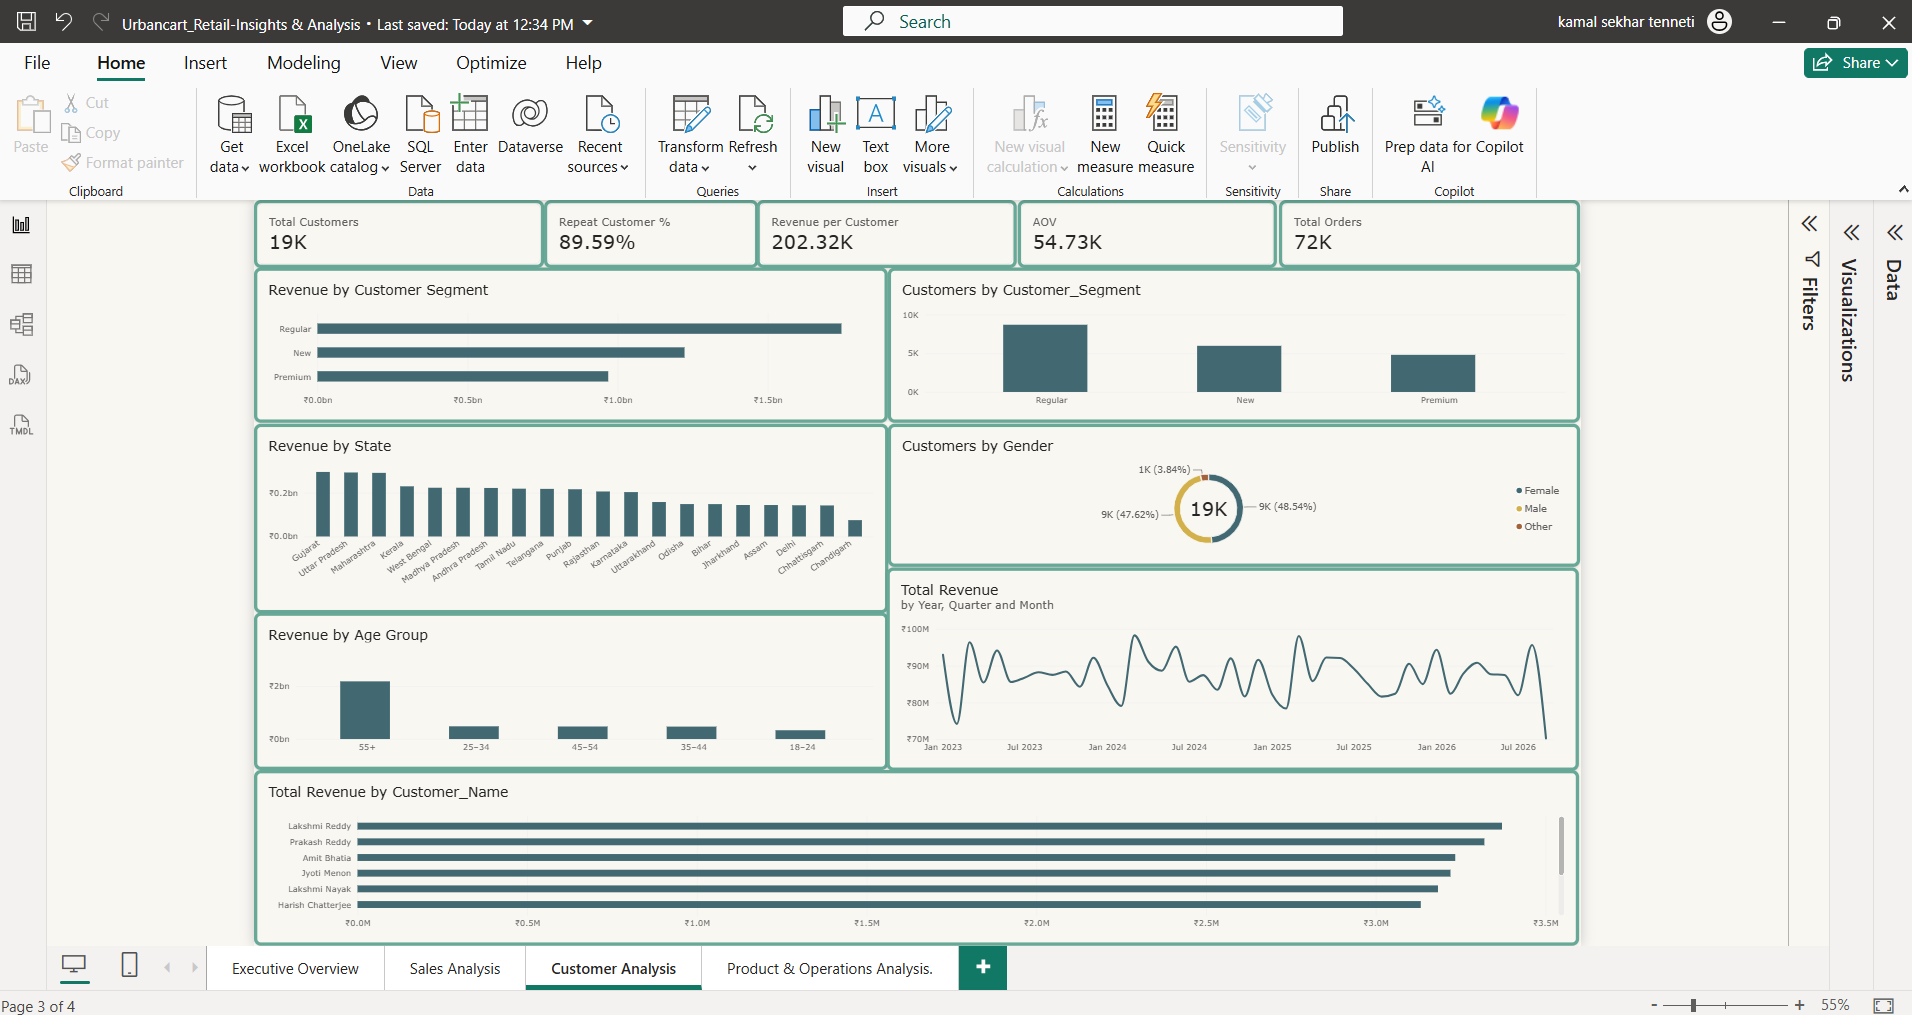

The dashboard page shown, as its layout file describes it:
{"tool":"powerbi","page":{"name":"Customer Analysis","canvas":[1920,1080],"ordinal":2},"visuals":[{"type":"cardVisual","fields":{"Data":["Order_Details.Total Customers"]},"box":[0,0,420,98.3],"z":0},{"type":"cardVisual","fields":{"Data":["Order_Details.Repeat Customer %"]},"box":[420,0,310,98.3],"z":1000},{"type":"cardVisual","fields":{"Data":["Order_Details.Revenue per Customer"]},"box":[728,0,376.7,98.3],"z":2000},{"type":"cardVisual","fields":{"Data":["Order_Details.AOV"]},"box":[1106,0,375,98.3],"z":3000},{"type":"cardVisual","fields":{"Data":["Order_Details.Total Orders"]},"box":[1484,0,436,98],"z":4000},{"type":"clusteredBarChart","title":"Revenue by Customer Segment","fields":{"Category":["Customers.Customer_Segment"],"Y":["Order_Details.Total Revenue"]},"box":[0,98,917.5,225],"z":5000},{"type":"clusteredColumnChart","title":"Customers by Customer_Segment","fields":{"Category":["Customers.Customer_Segment"],"Y":["Order_Details.Total Customers"]},"box":[918,98,1002.5,225],"z":6000},{"type":"clusteredColumnChart","title":"Revenue by State","fields":{"Category":["Customers.State"],"Y":["Order_Details.Total Revenue"]},"box":[0,324,918,274],"z":7000},{"type":"donutChart","title":"Customers by Gender","fields":{"Category":["Customers.Gender"],"Y":["Order_Details.Total Customers"]},"box":[918,324,1002.5,207.5],"z":8000},{"type":"clusteredColumnChart","title":"Revenue by Age Group","fields":{"Category":["Customers.Age Group"],"Y":["Order_Details.Total Revenue"]},"box":[0,598,918,228],"z":9000},{"type":"lineChart","fields":{"Category":["Date_Dimension.Full_Date.Variation.Date Hierarchy.Year","Date_Dimension.Full_Date.Variation.Date Hierarchy.Quarter","Date_Dimension.Full_Date.Variation.Date Hierarchy.Month","Date_Dimension.Full_Date.Variation.Date Hierarchy.Day"],"Y":["Order_Details.Total Revenue"]},"box":[916,532,1002,294],"z":10000},{"type":"clusteredBarChart","fields":{"Category":["Customers.Customer_Name"],"Y":["Order_Details.Total Revenue"]},"box":[0,826,1918,254],"z":11000}]}

Visuals, with their boxes on the page's 1920x1080 design canvas (x1, y1, x2, y2). These are canvas units, not pixel positions in the 1912x1015 screenshot, which may show the page scaled, cropped or inside an application window:
cardVisual - Order_Details.Total Customers: l=0, t=0, r=420, b=98
cardVisual - Order_Details.Repeat Customer %: l=420, t=0, r=730, b=98
cardVisual - Order_Details.Revenue per Customer: l=728, t=0, r=1105, b=98
cardVisual - Order_Details.AOV: l=1106, t=0, r=1481, b=98
cardVisual - Order_Details.Total Orders: l=1484, t=0, r=1920, b=98
"Revenue by Customer Segment" clusteredBarChart: l=0, t=98, r=918, b=323
"Customers by Customer_Segment" clusteredColumnChart: l=918, t=98, r=1920, b=323
"Revenue by State" clusteredColumnChart: l=0, t=324, r=918, b=598
"Customers by Gender" donutChart: l=918, t=324, r=1920, b=532
"Revenue by Age Group" clusteredColumnChart: l=0, t=598, r=918, b=826
lineChart - Date_Dimension.Full_Date.Variation.Date Hierarchy.Year x Date_Dimension.Full_Date.Variation.Date Hierarchy.Quarter: l=916, t=532, r=1918, b=826
clusteredBarChart - Customers.Customer_Name x Order_Details.Total Revenue: l=0, t=826, r=1918, b=1080
